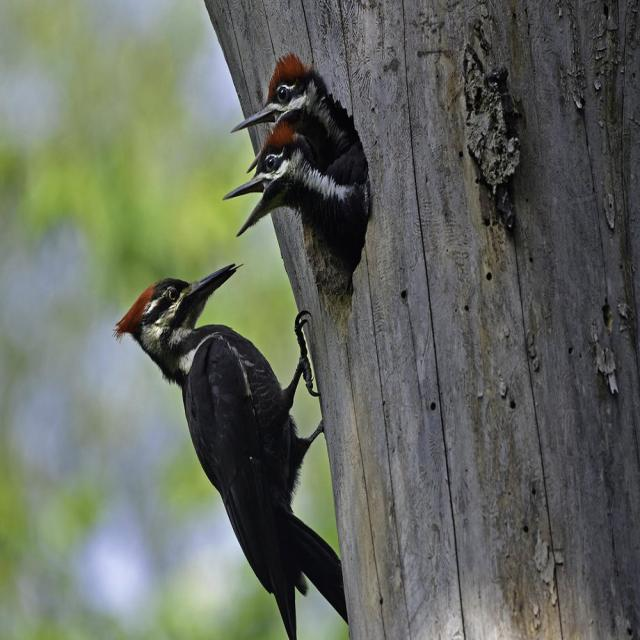Woodpecker: (114, 247, 358, 636), (227, 47, 377, 305)
